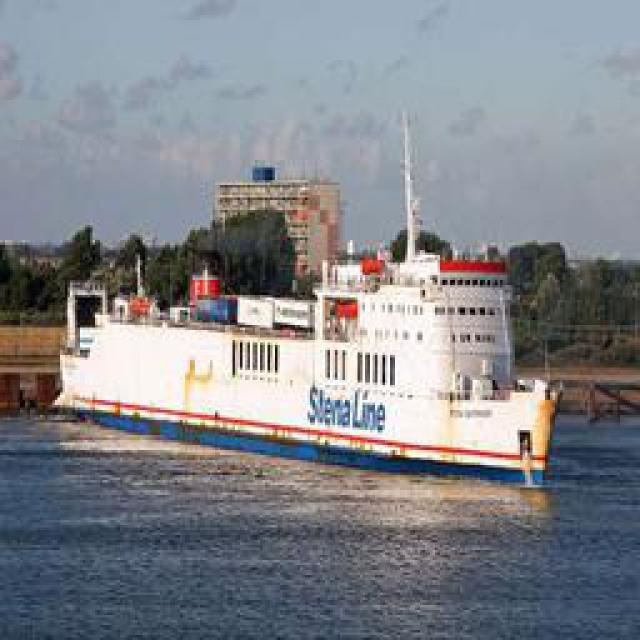Ship: (56, 152, 571, 485)
